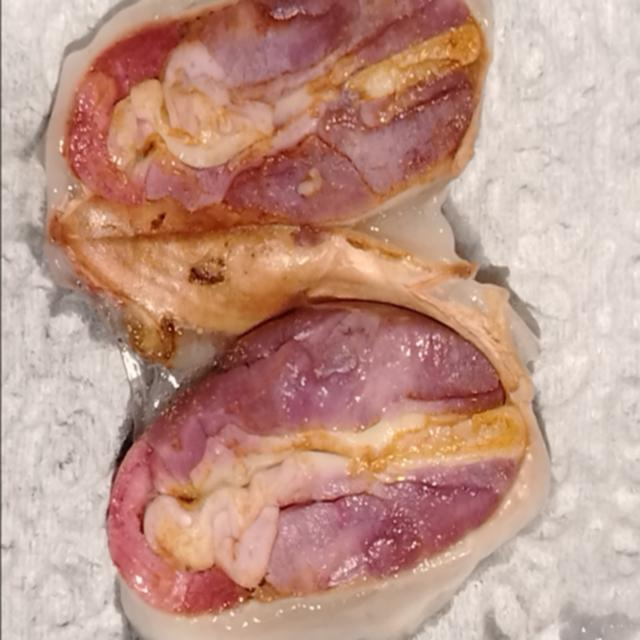Trinitario: (106, 295, 530, 617), (69, 0, 484, 229)
